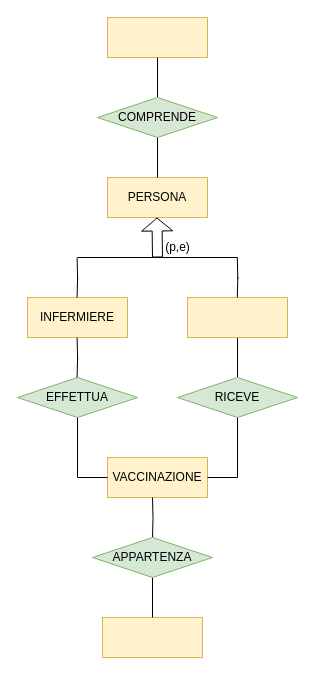
This 315x675 diagram has some shape labels left out. The shapes that lost their labels are listed below. From the top down, each one's box as (x1, y1, x2, y2) in pixels, then its label:
(106, 16, 208, 58): OSPEDALE
(186, 296, 288, 338): PAZIENTE
(102, 616, 202, 658): VACCINO
